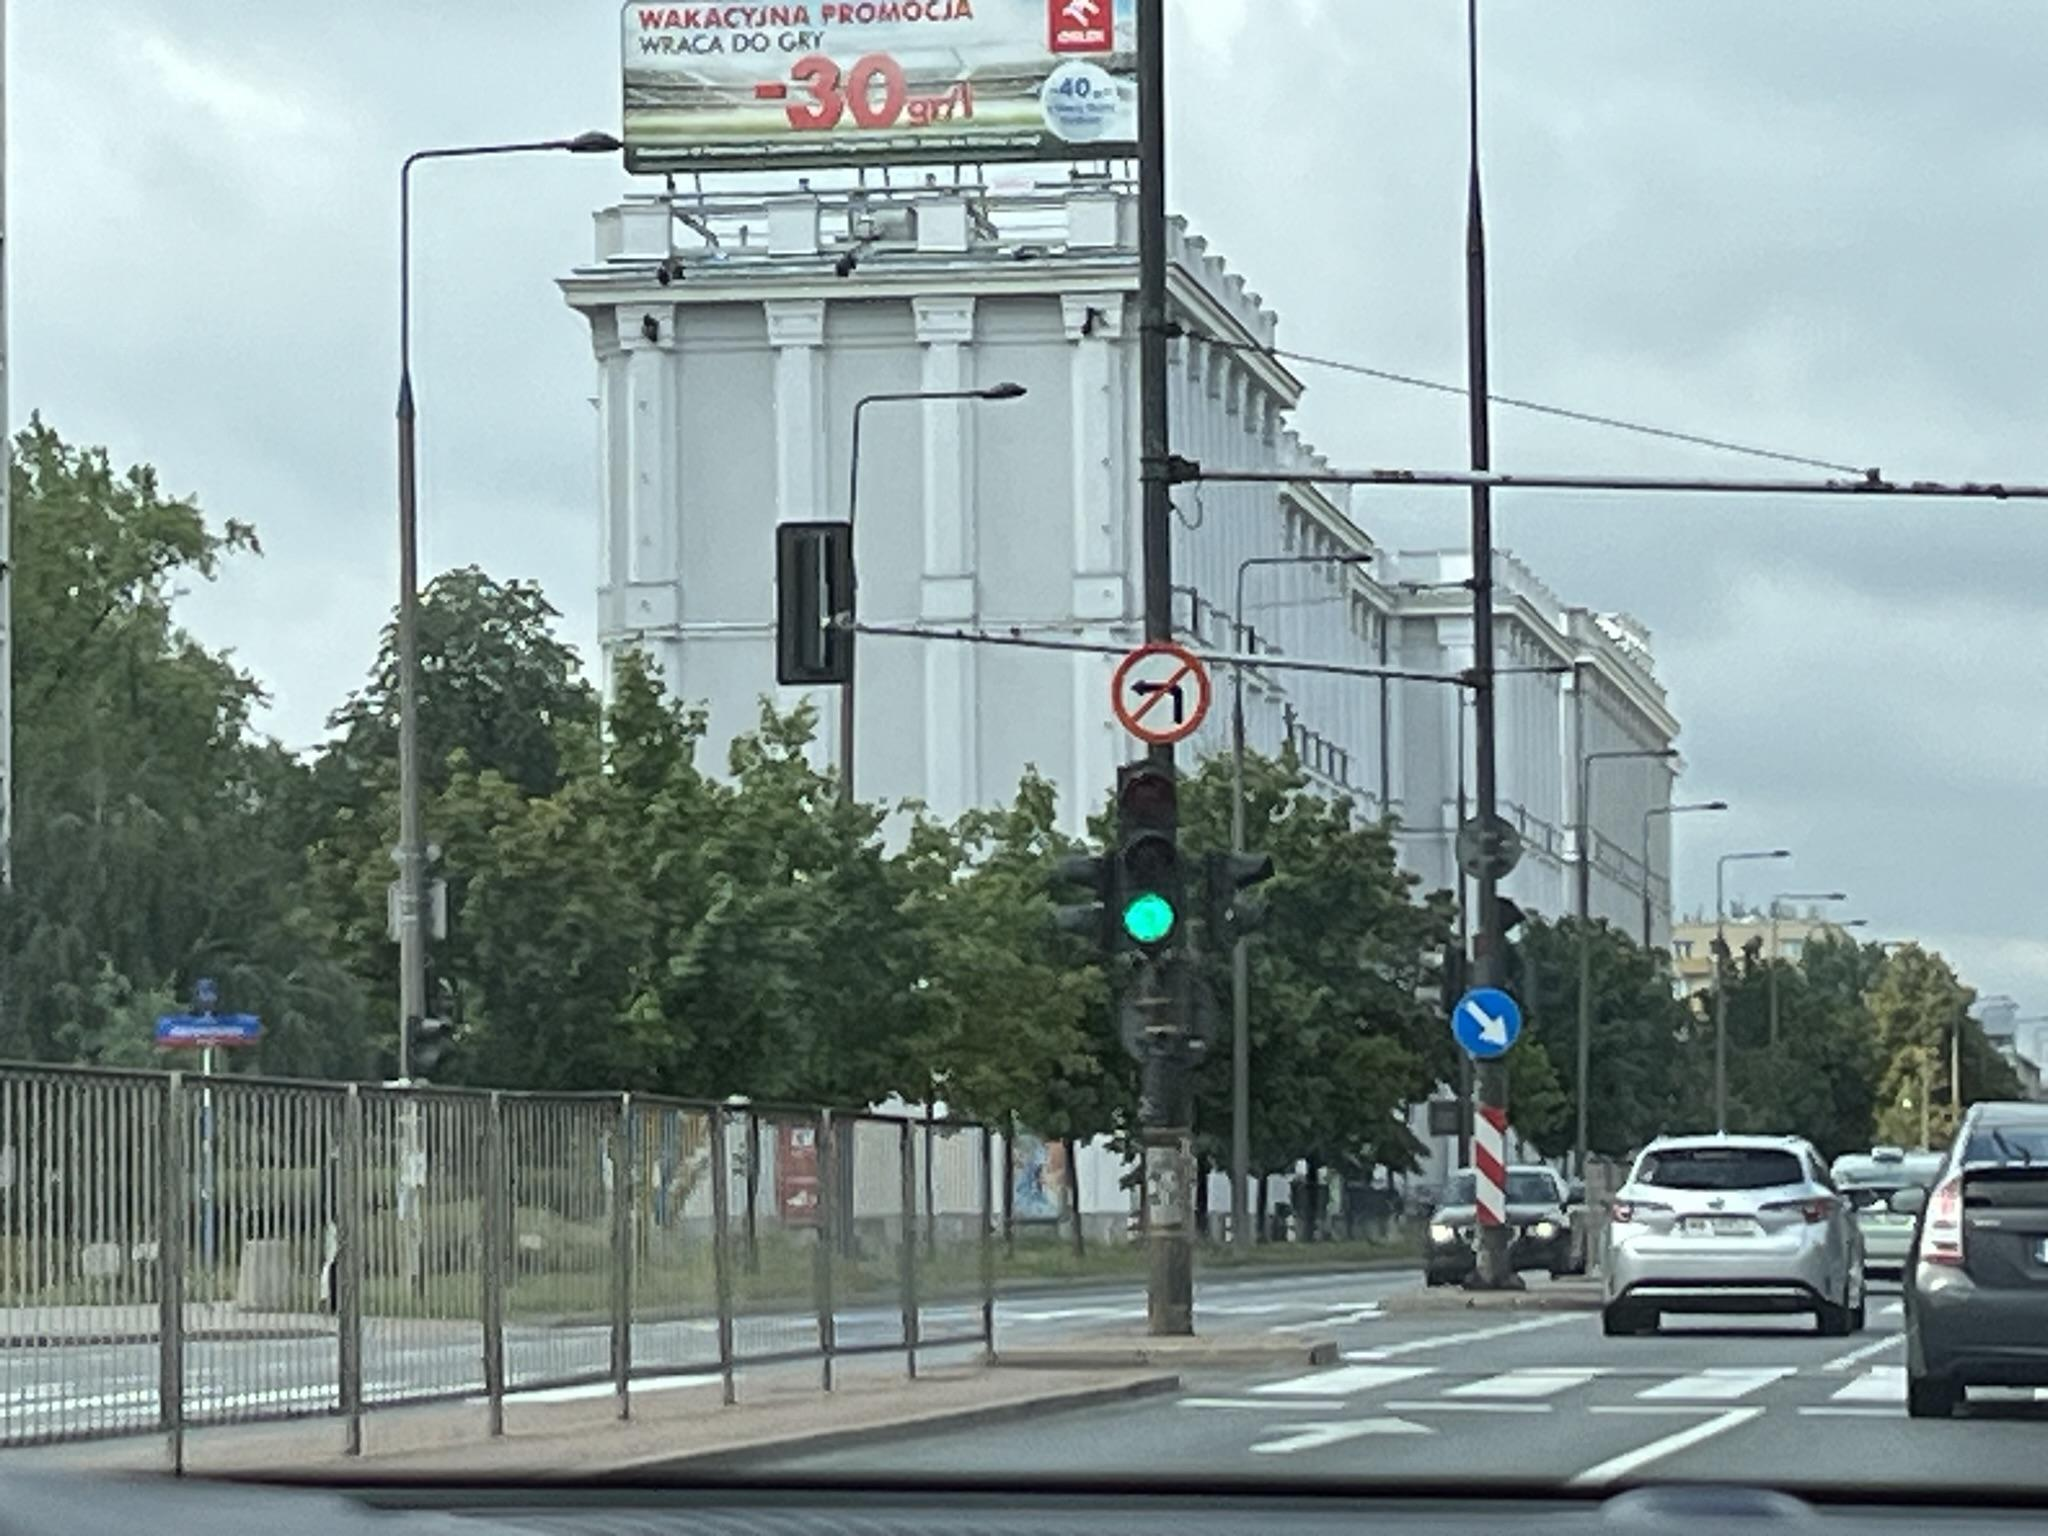mandatory: (1451, 987, 1529, 1062)
prohibitory: (1113, 642, 1208, 744)
